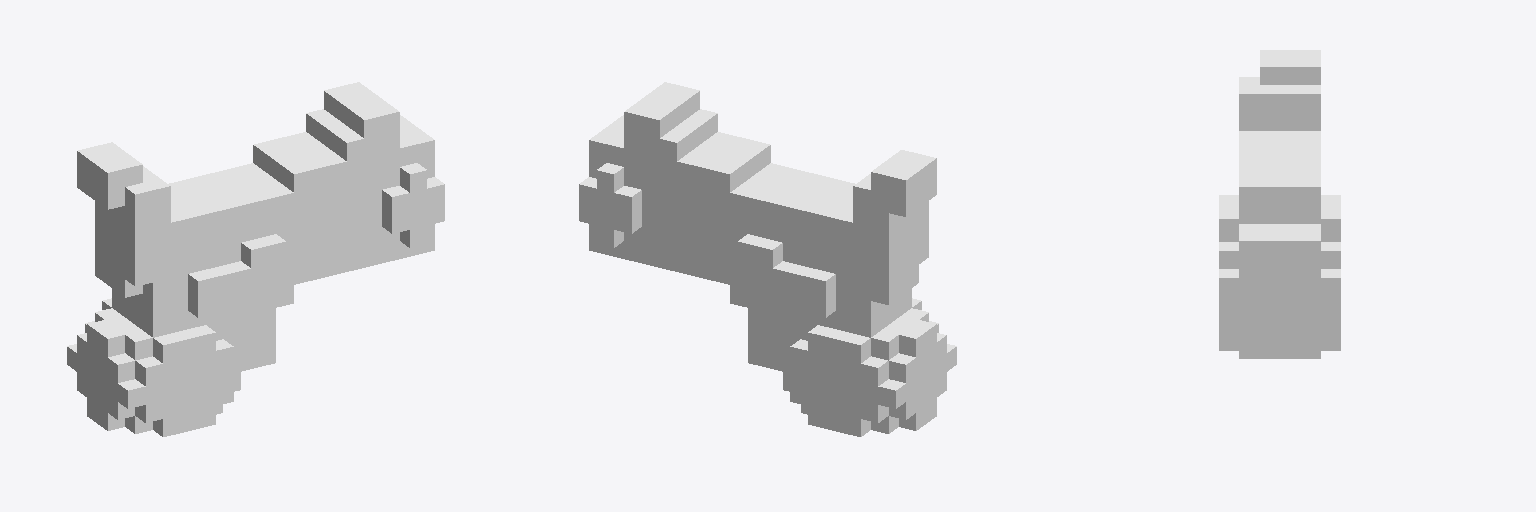
File: secondGun-1.obj
3 views of the same model, side by side, from view 1: azimuth 30°, elevation 25°; view 2: azimuth 150°, elevation 25°; view 3: azimuth 270°, elevation 25° (orthographic).
Visible parts, largest first — view 1: object 1; view 2: object 1; view 3: object 1.
Part boxes in pixels (x1,y1,x2,y2): object 1: (67,82,444,436); object 1: (579,82,956,436); object 1: (1219,50,1340,358).
Size of the model in its own units: 1.8 by 1.4 by 0.6.